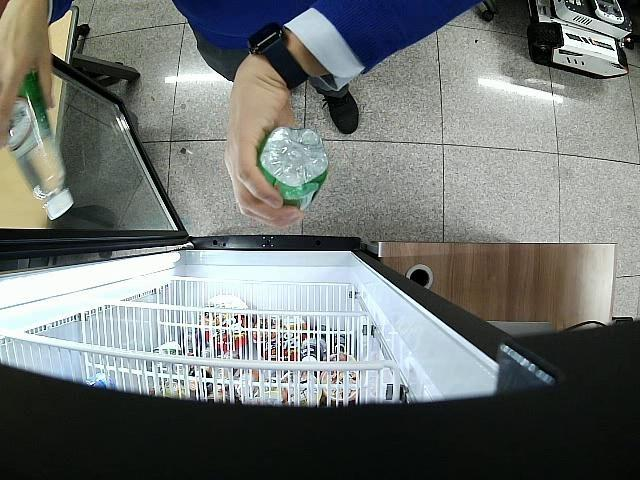18_trevi: (8, 70, 76, 221), (254, 126, 328, 212)
